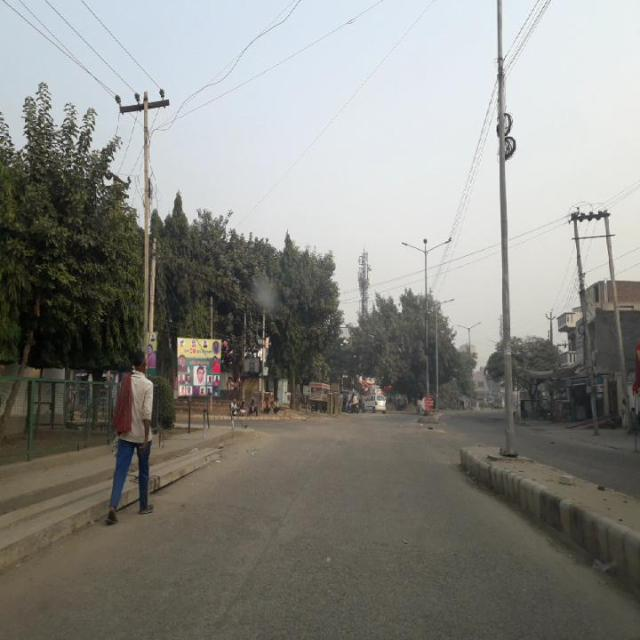D01: (206, 511, 288, 637)
